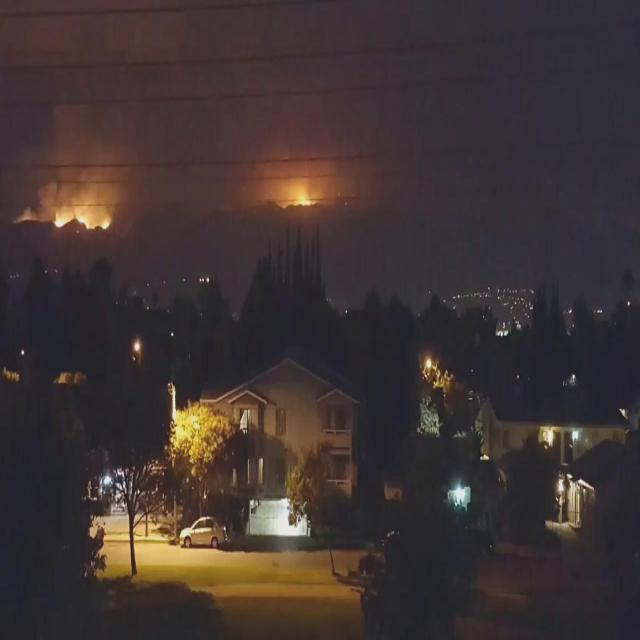Fire: (55, 210, 111, 230), (277, 190, 316, 210)
